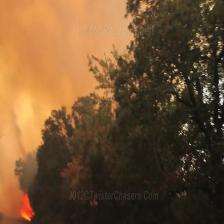fire: (9, 188, 52, 224)
